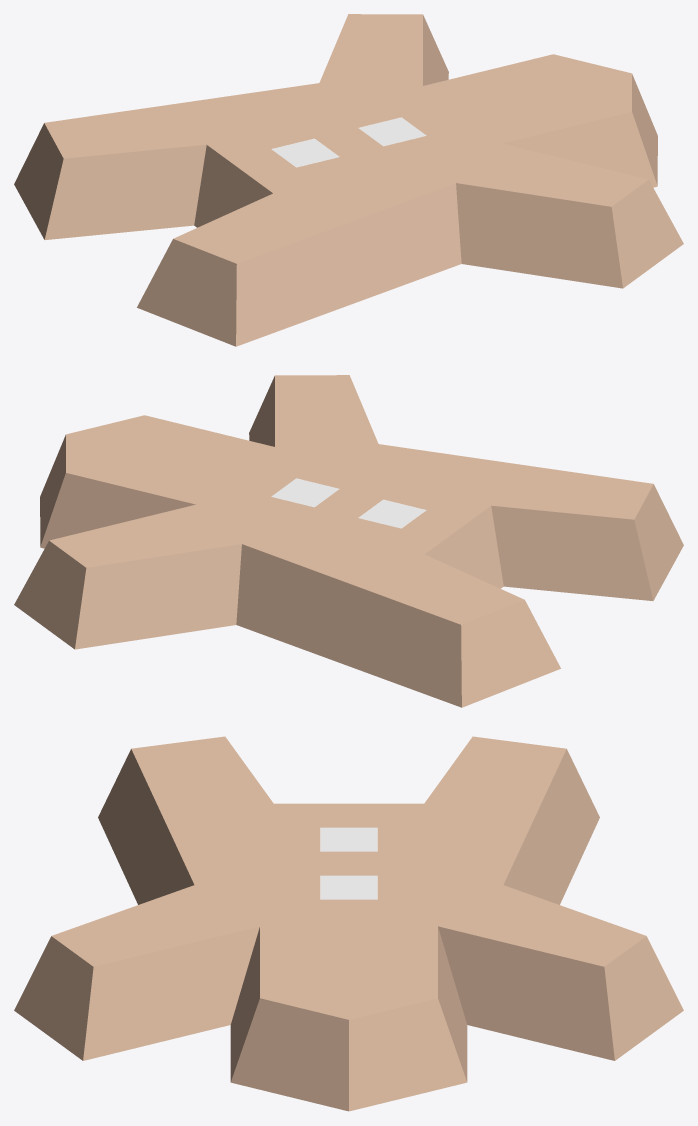
The picture shows the model from 3 angles, top to bottom: view 1: azimuth 30°, elevation 25°; view 2: azimuth 150°, elevation 25°; view 3: azimuth 270°, elevation 25°; orthographic projection. The views are drawn at different scales.
Parts seen in each view (by area): view 1: gingerBread; view 2: gingerBread; view 3: gingerBread.
Part boxes in pixels (x1,y1,x2,y2): gingerBread: [14, 14, 683, 346]; gingerBread: [14, 375, 683, 707]; gingerBread: [14, 736, 683, 1111].
Bounding box in the file's own units: 0.2604 × 0.03 × 0.2356.
